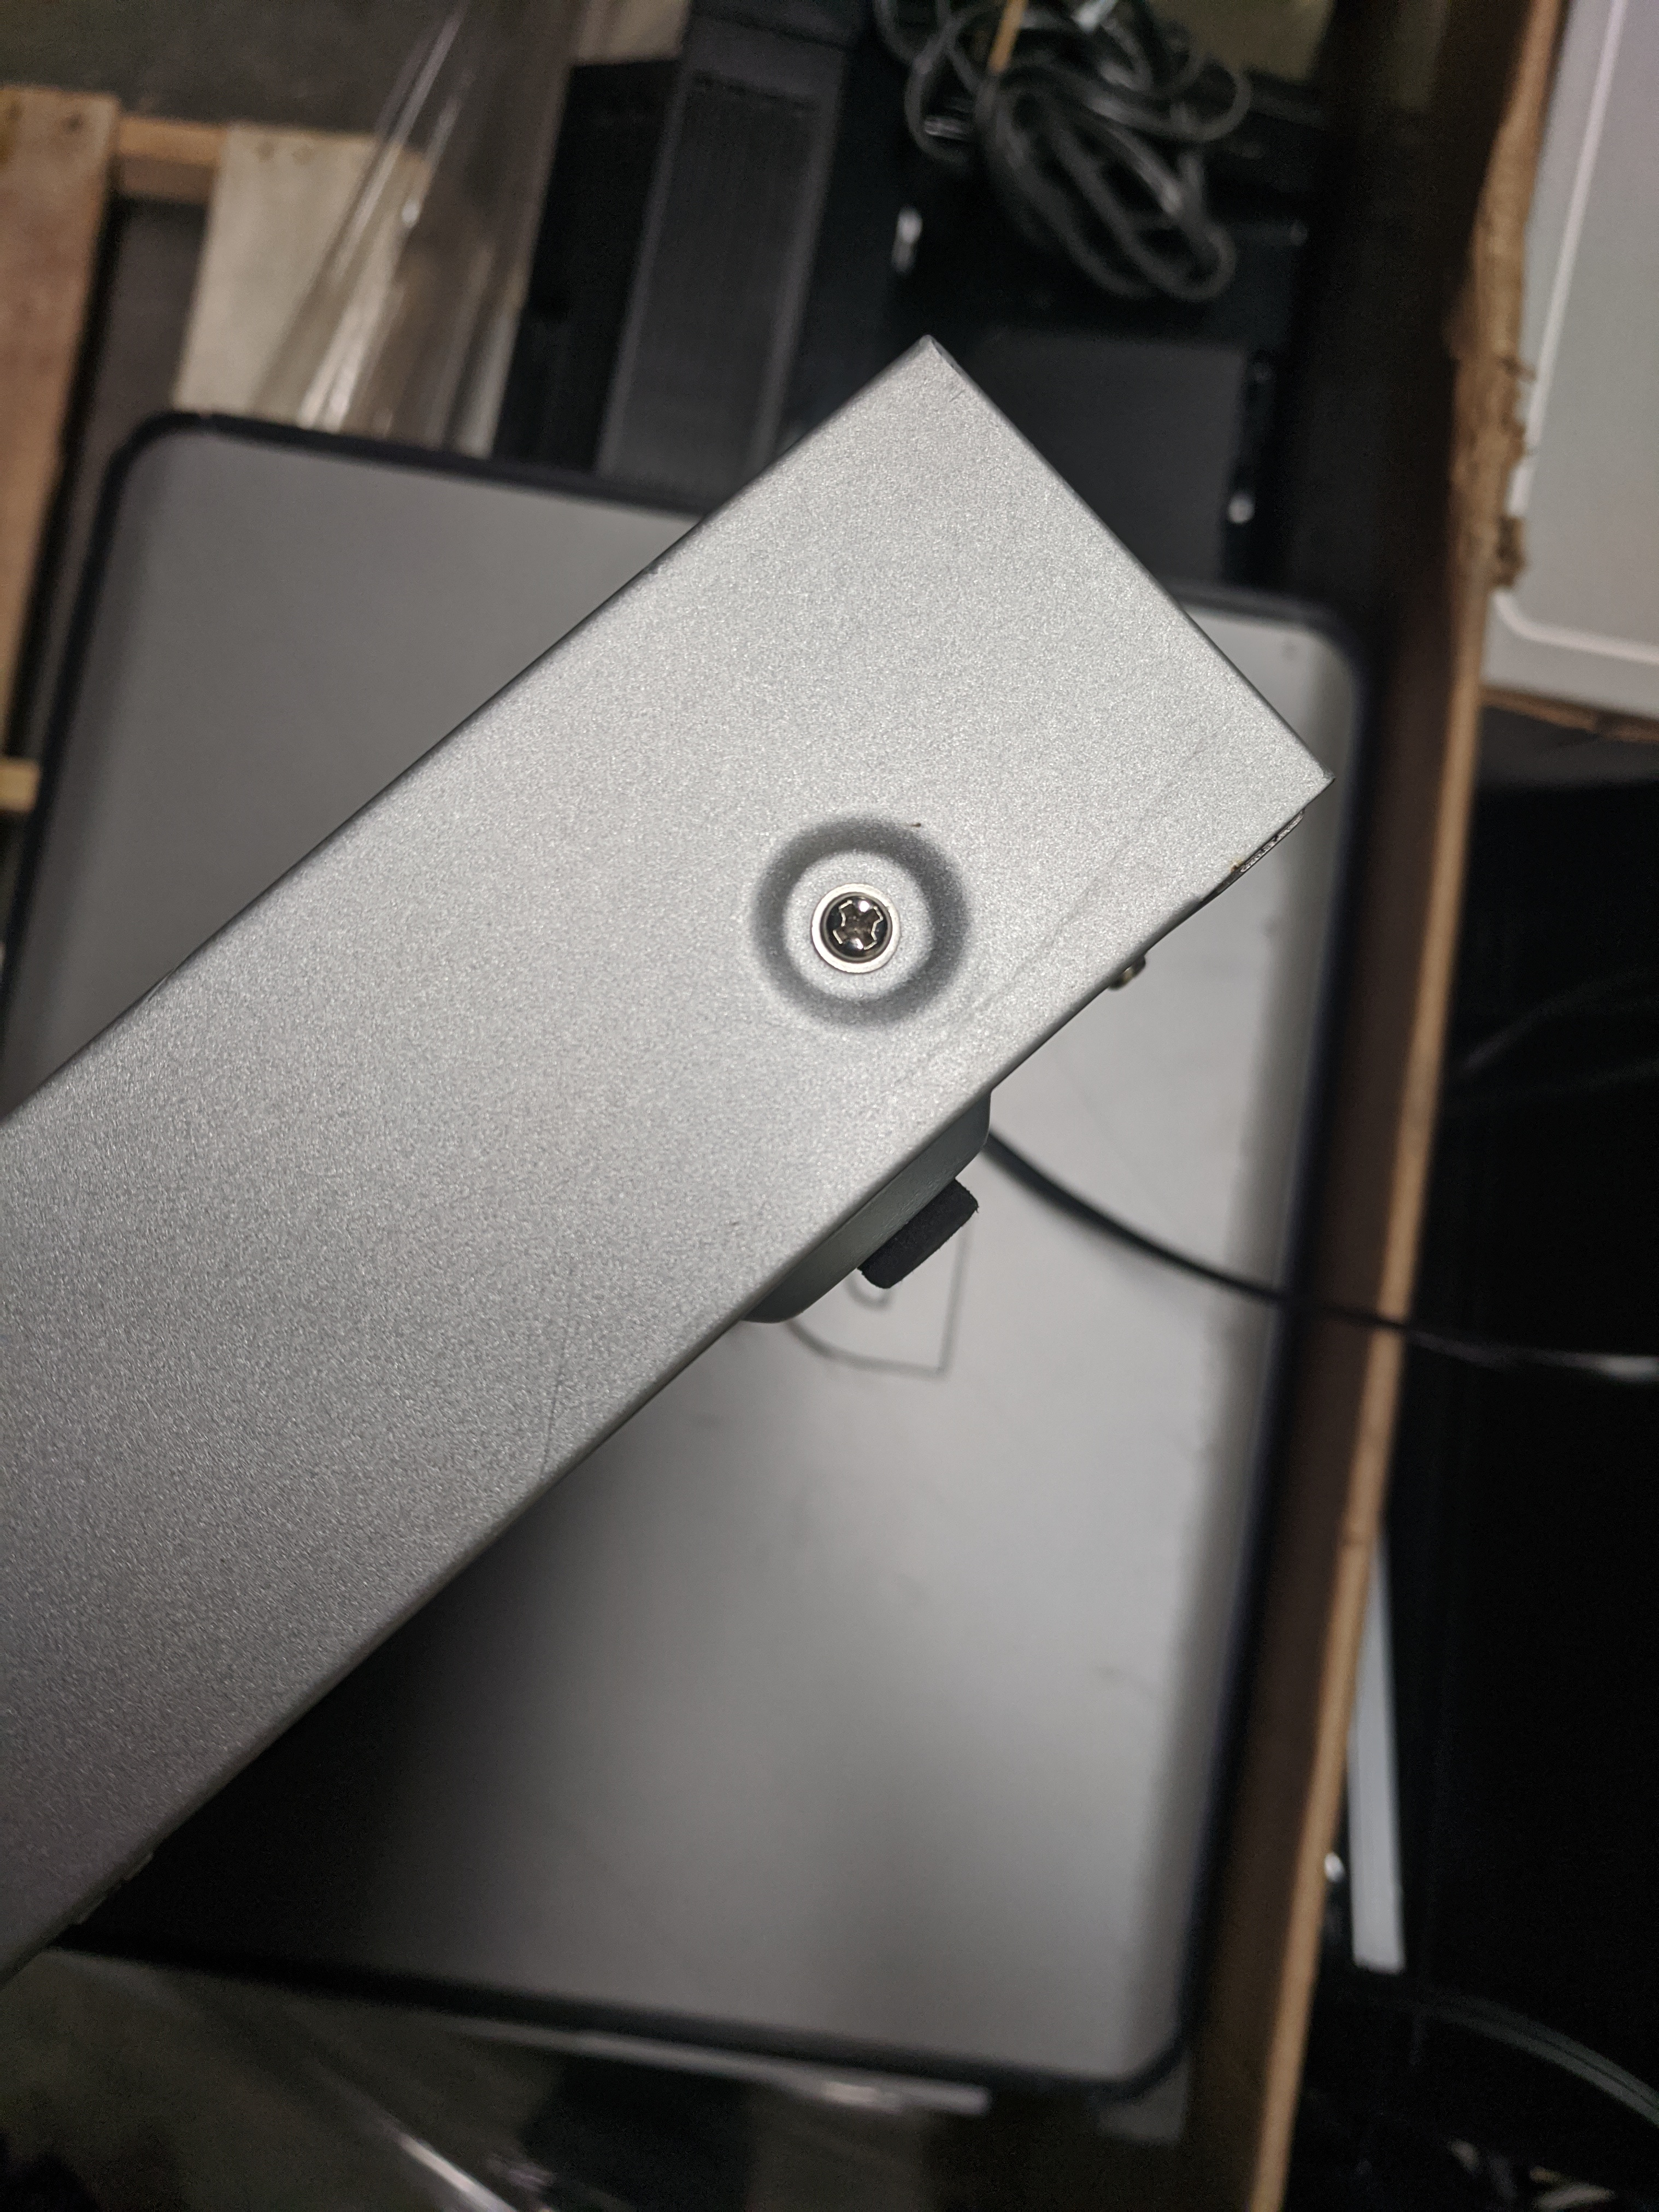cross_recessed_screw: (810, 888, 901, 977)
